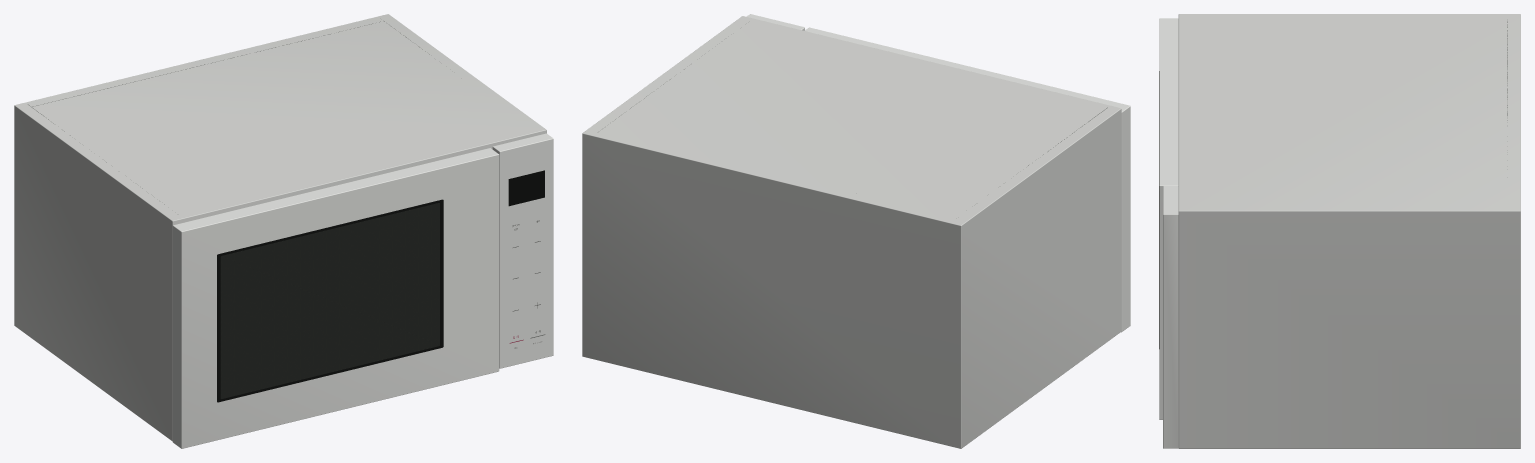
File: MW23-window-9f48a3.glb
The picture shows the model from 3 angles, left to right: view 1: azimuth 30°, elevation 25°; view 2: azimuth 150°, elevation 25°; view 3: azimuth 270°, elevation 25°; orthographic projection. The views are drawn at different scales.
Parts seen in each view (by area): view 1: BodyShell, DoorBody, WindowMesh, ControlPanel, WindowSurround, ControlDisplay; view 2: BodyShell, DoorBody; view 3: BodyShell, DoorBody, ControlPanel.
Part boxes in pixels (<box>): BodyShell: <box>14,14,546,441</box>; DoorBody: <box>172,148,499,448</box>; WindowMesh: <box>220,203,439,398</box>; ControlPanel: <box>492,133,553,368</box>; WindowSurround: <box>217,199,443,402</box>; ControlDisplay: <box>508,170,544,206</box>; BodyShell: <box>582,16,1121,448</box>; DoorBody: <box>804,27,1130,332</box>; BodyShell: <box>1178,14,1520,448</box>; DoorBody: <box>1159,18,1178,419</box>; ControlPanel: <box>1163,186,1178,448</box>.
Size of the model in its own units: 0.476 by 0.272 by 0.369.
Materials: 10 (1 with a texture image).
